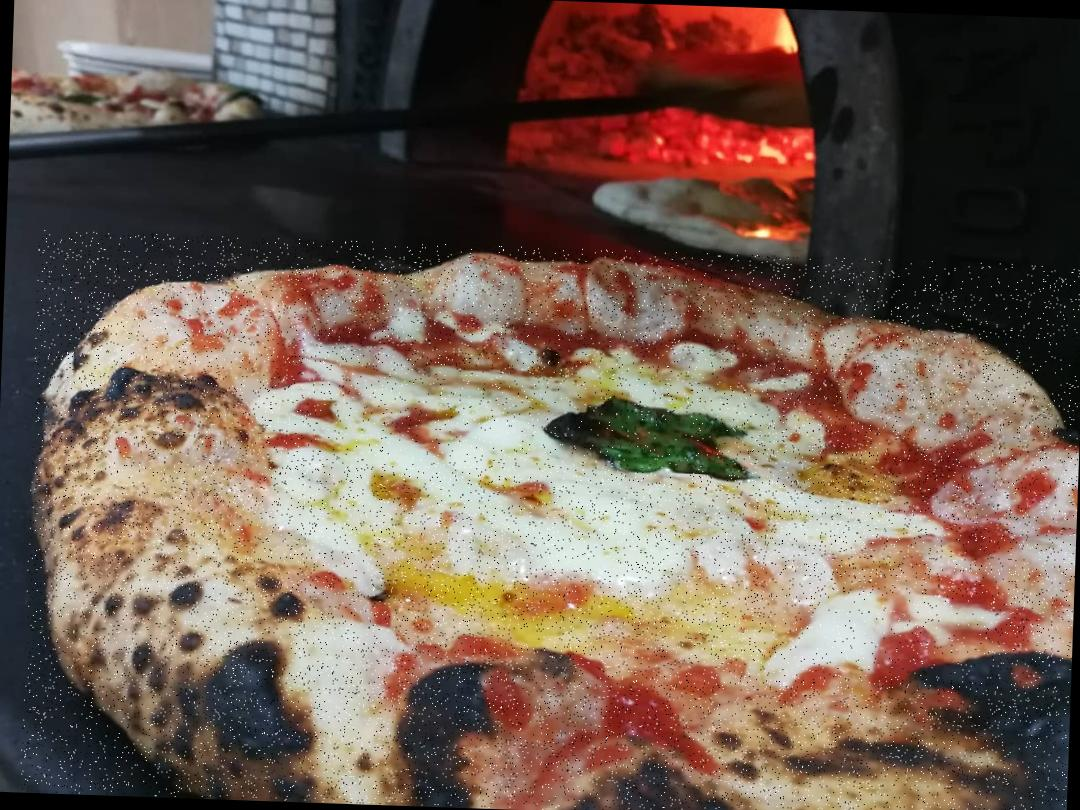Basil: (546, 394, 734, 477)
Cheese: (283, 460, 886, 599), (288, 363, 546, 464), (771, 590, 989, 682), (566, 351, 768, 424)
Pizza: (19, 229, 1080, 810)
